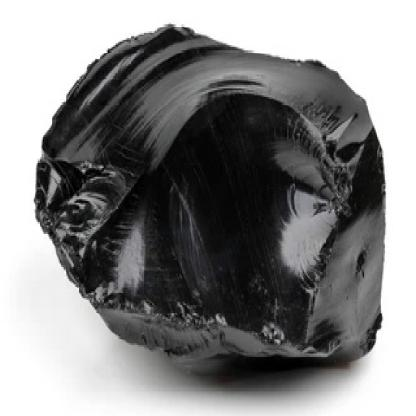Sedimentary_coal: (17, 4, 393, 382)
